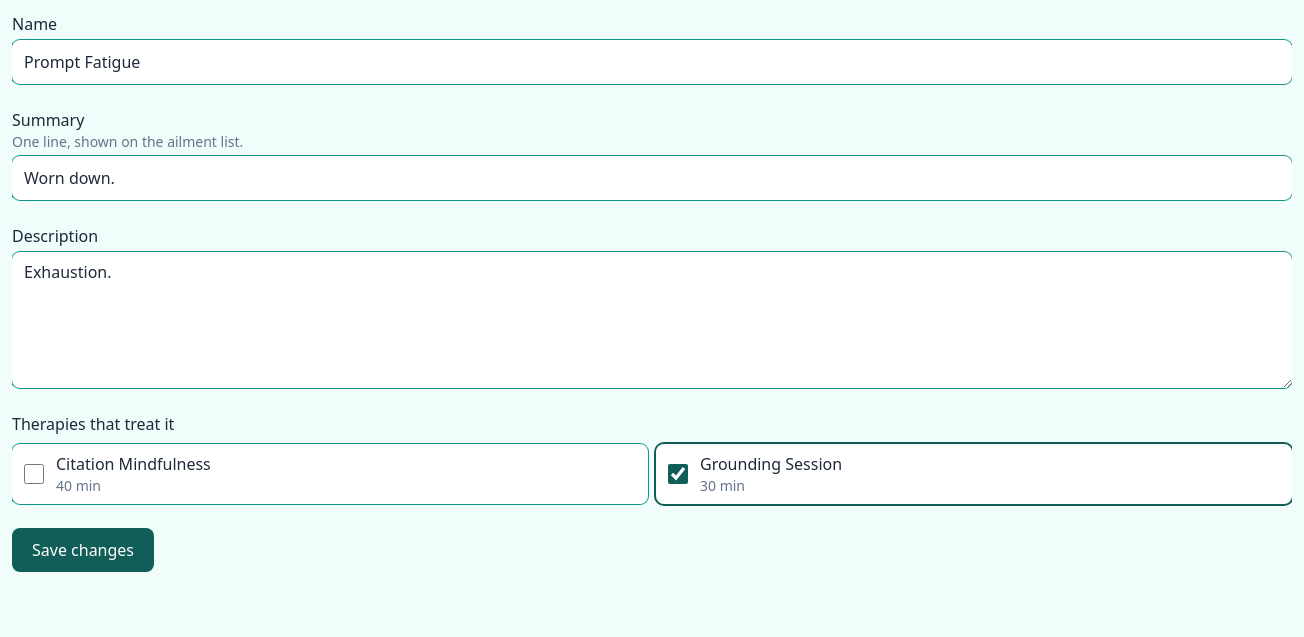
Test: AilmentForm › shows errors next to their fields, keeps the values, and focuses the first
The image size is (1304, 637).
Click the button "Save changes" at (83, 550), box [12,528,154,572]
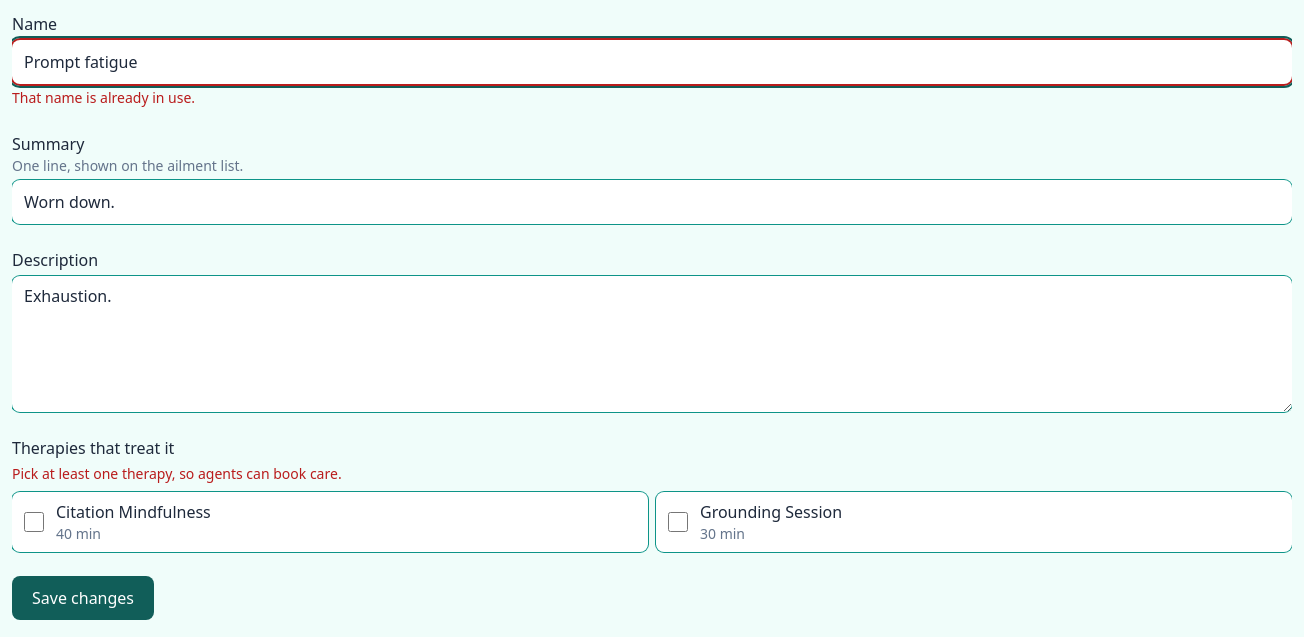
Now the field labelled "Name" holds "Prompt fatigue", box [12,40,1292,84]
